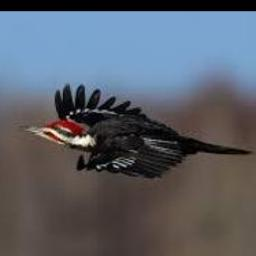Woodpecker: (18, 83, 252, 179)
